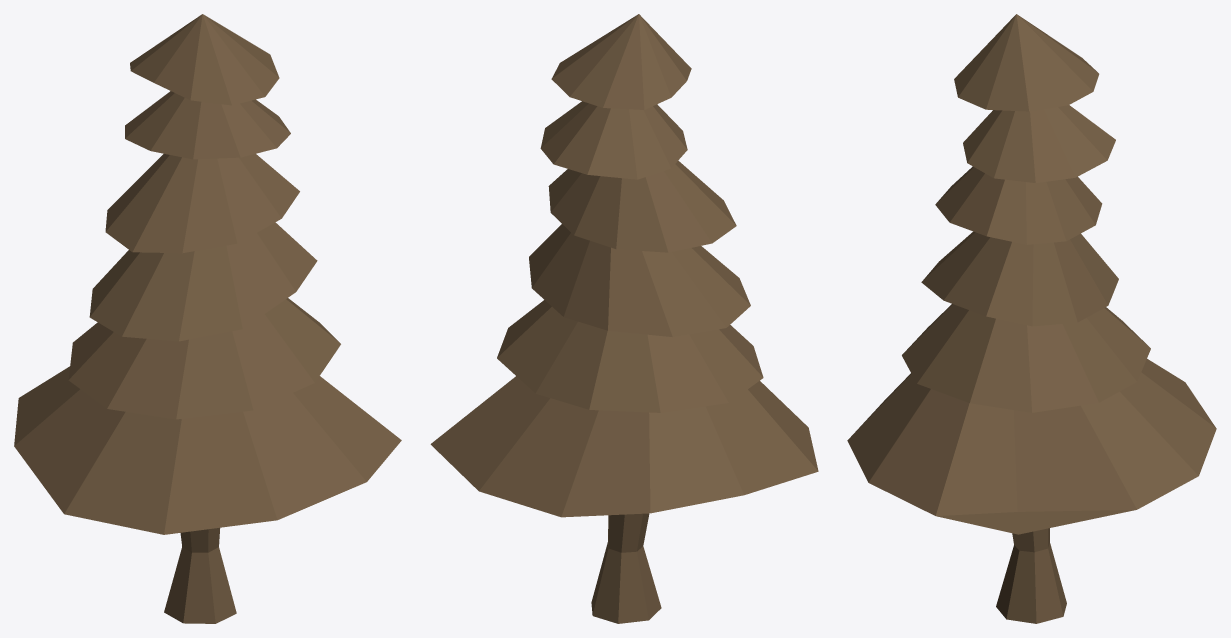
The model's file is lowpolyTree02.fbx.
3 views of the same model, side by side, from view 1: azimuth 30°, elevation 25°; view 2: azimuth 150°, elevation 25°; view 3: azimuth 270°, elevation 25° (orthographic). The views are drawn at different scales.
Visible parts, largest first — view 1: Tree01.002, Tree01.003, Tree01.004, Tree01.005, Tree01.007, Tree01.006, Tree01.001; view 2: Tree01.002, Tree01.003, Tree01.004, Tree01.005, Tree01.006, Tree01.007, Tree01.001; view 3: Tree01.002, Tree01.003, Tree01.004, Tree01.007, Tree01.006, Tree01.005, Tree01.001.
Part boxes in pixels (bbox=[...]): Tree01.002: bbox=[14, 366, 401, 534]; Tree01.003: bbox=[68, 298, 340, 419]; Tree01.004: bbox=[89, 222, 317, 341]; Tree01.005: bbox=[105, 154, 299, 253]; Tree01.007: bbox=[130, 14, 279, 105]; Tree01.006: bbox=[125, 91, 290, 159]; Tree01.001: bbox=[164, 527, 236, 623]; Tree01.002: bbox=[430, 376, 818, 517]; Tree01.003: bbox=[497, 300, 763, 412]; Tree01.004: bbox=[529, 224, 750, 336]; Tree01.005: bbox=[548, 160, 736, 252]; Tree01.006: bbox=[540, 101, 687, 179]; Tree01.007: bbox=[551, 14, 691, 109]; Tree01.001: bbox=[591, 513, 661, 623]; Tree01.002: bbox=[847, 359, 1216, 534]; Tree01.003: bbox=[902, 304, 1150, 412]; Tree01.004: bbox=[921, 231, 1118, 326]; Tree01.007: bbox=[954, 14, 1099, 111]; Tree01.006: bbox=[963, 105, 1115, 182]; Tree01.005: bbox=[935, 166, 1102, 244]; Tree01.001: bbox=[996, 528, 1066, 623].
Size of the model in its own units: 606 by 1066 by 604.
